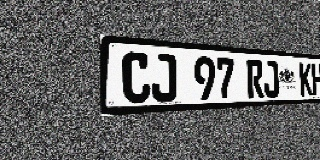7: (215, 57, 235, 100)
9: (194, 56, 216, 101)
C: (122, 51, 151, 104)
H: (311, 63, 320, 96)
J: (151, 53, 177, 103), (263, 60, 279, 98)
K: (299, 63, 313, 96)
R: (247, 59, 264, 98)
